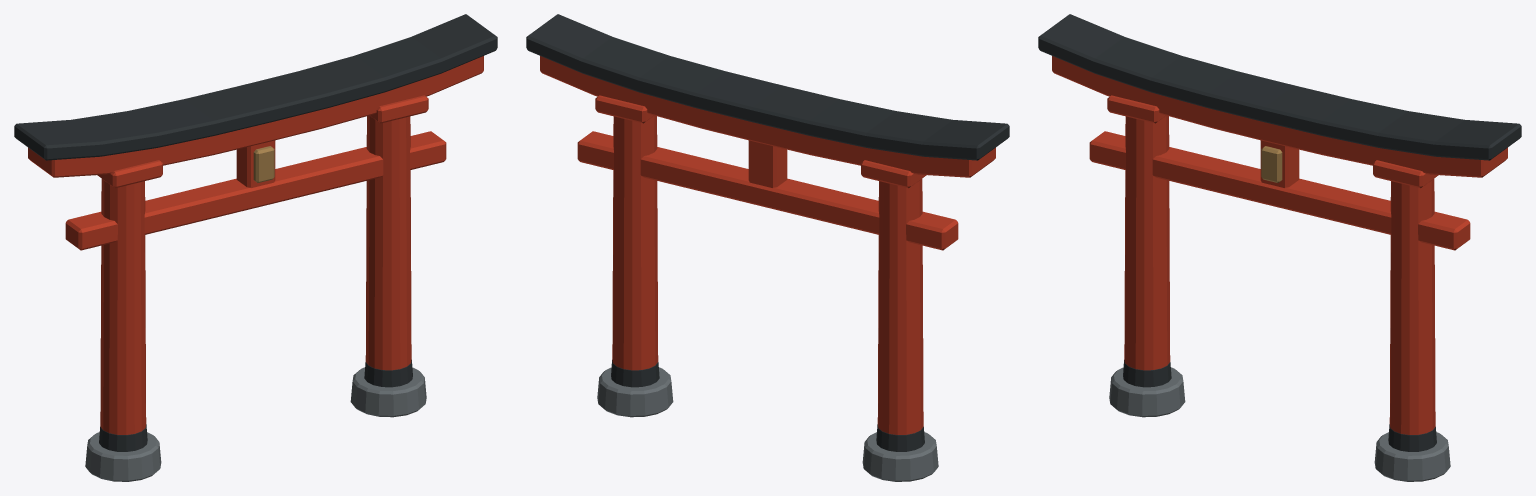
Rendered from NEW_RECOVERY_123_LOD2.glb.
3 renders of one model, left to right at view 1: azimuth 30°, elevation 25°; view 2: azimuth 150°, elevation 25°; view 3: azimuth 330°, elevation 25°, orthographic.
Parts seen in each view (by area): view 1: Torii gate continuous solid; view 2: Torii gate continuous solid; view 3: Torii gate continuous solid.
Part boxes in pixels (x1,y1,x2,y2): Torii gate continuous solid: [14, 14, 497, 481]; Torii gate continuous solid: [526, 14, 1009, 481]; Torii gate continuous solid: [1038, 14, 1521, 481].
Bounding box in the file's own units: 5.3 × 3.96 × 0.7758.
